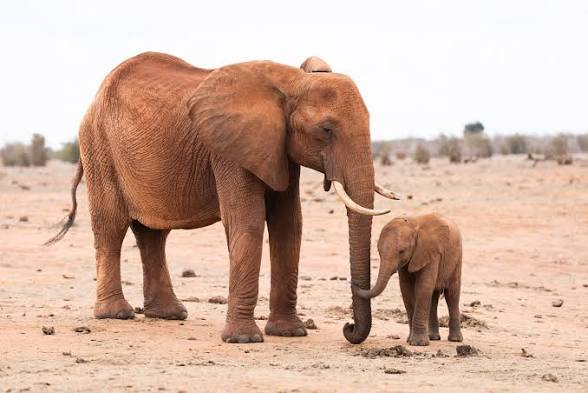elephant: (52, 52, 395, 342), (353, 214, 461, 344)
